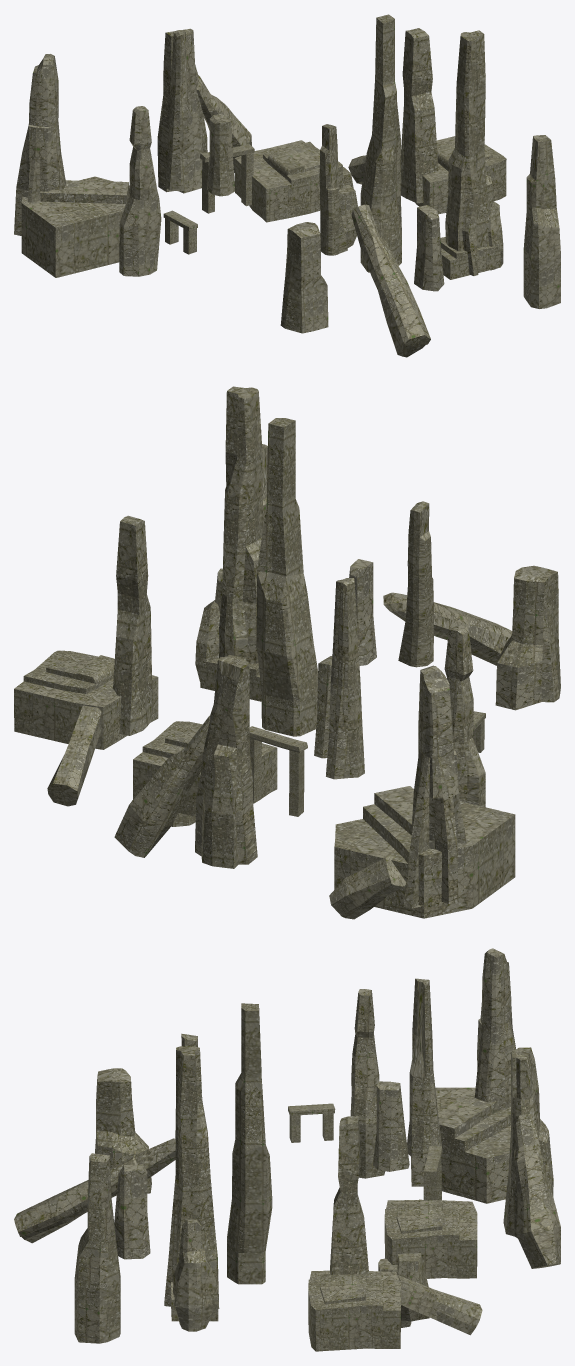
Rendered from SM_Chateaux_04_04.fbx.
The picture shows the model from 3 angles, top to bottom: view 1: azimuth 30°, elevation 25°; view 2: azimuth 150°, elevation 25°; view 3: azimuth 270°, elevation 25°; orthographic projection. The views are drawn at different scales.
Visible parts, largest first — view 1: SM_Chateaux_04_04; view 2: SM_Chateaux_04_04; view 3: SM_Chateaux_04_04.
Boxes of the visible parts, left/top/right/bottom form: SM_Chateaux_04_04: left=14, top=14, right=560, bottom=357; SM_Chateaux_04_04: left=14, top=386, right=560, bottom=919; SM_Chateaux_04_04: left=14, top=948, right=560, bottom=1351.
Bounding box in the file's own units: 5350 × 3441 × 5549.
